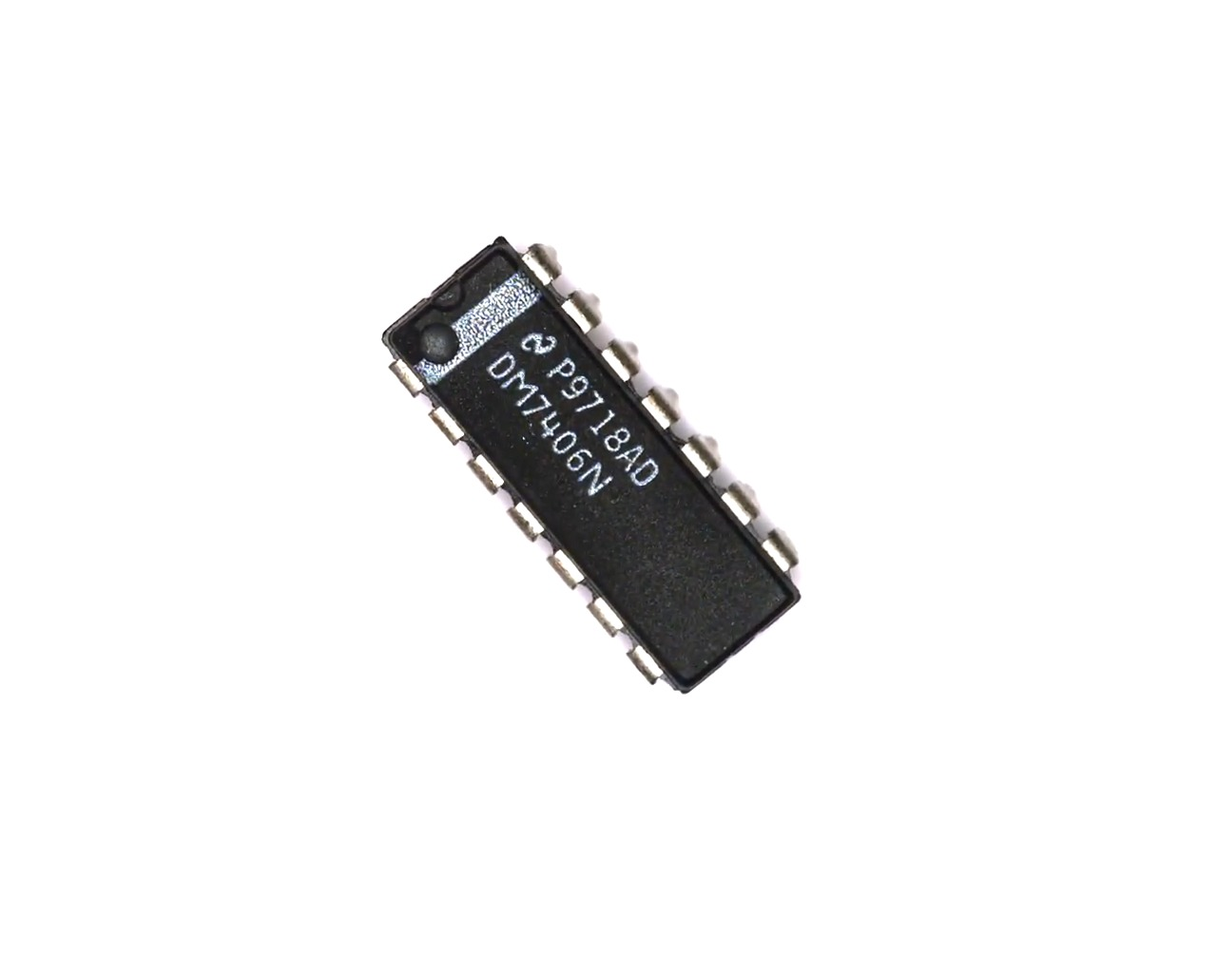IC: (350, 201, 836, 718)
notch: (429, 274, 473, 316)
